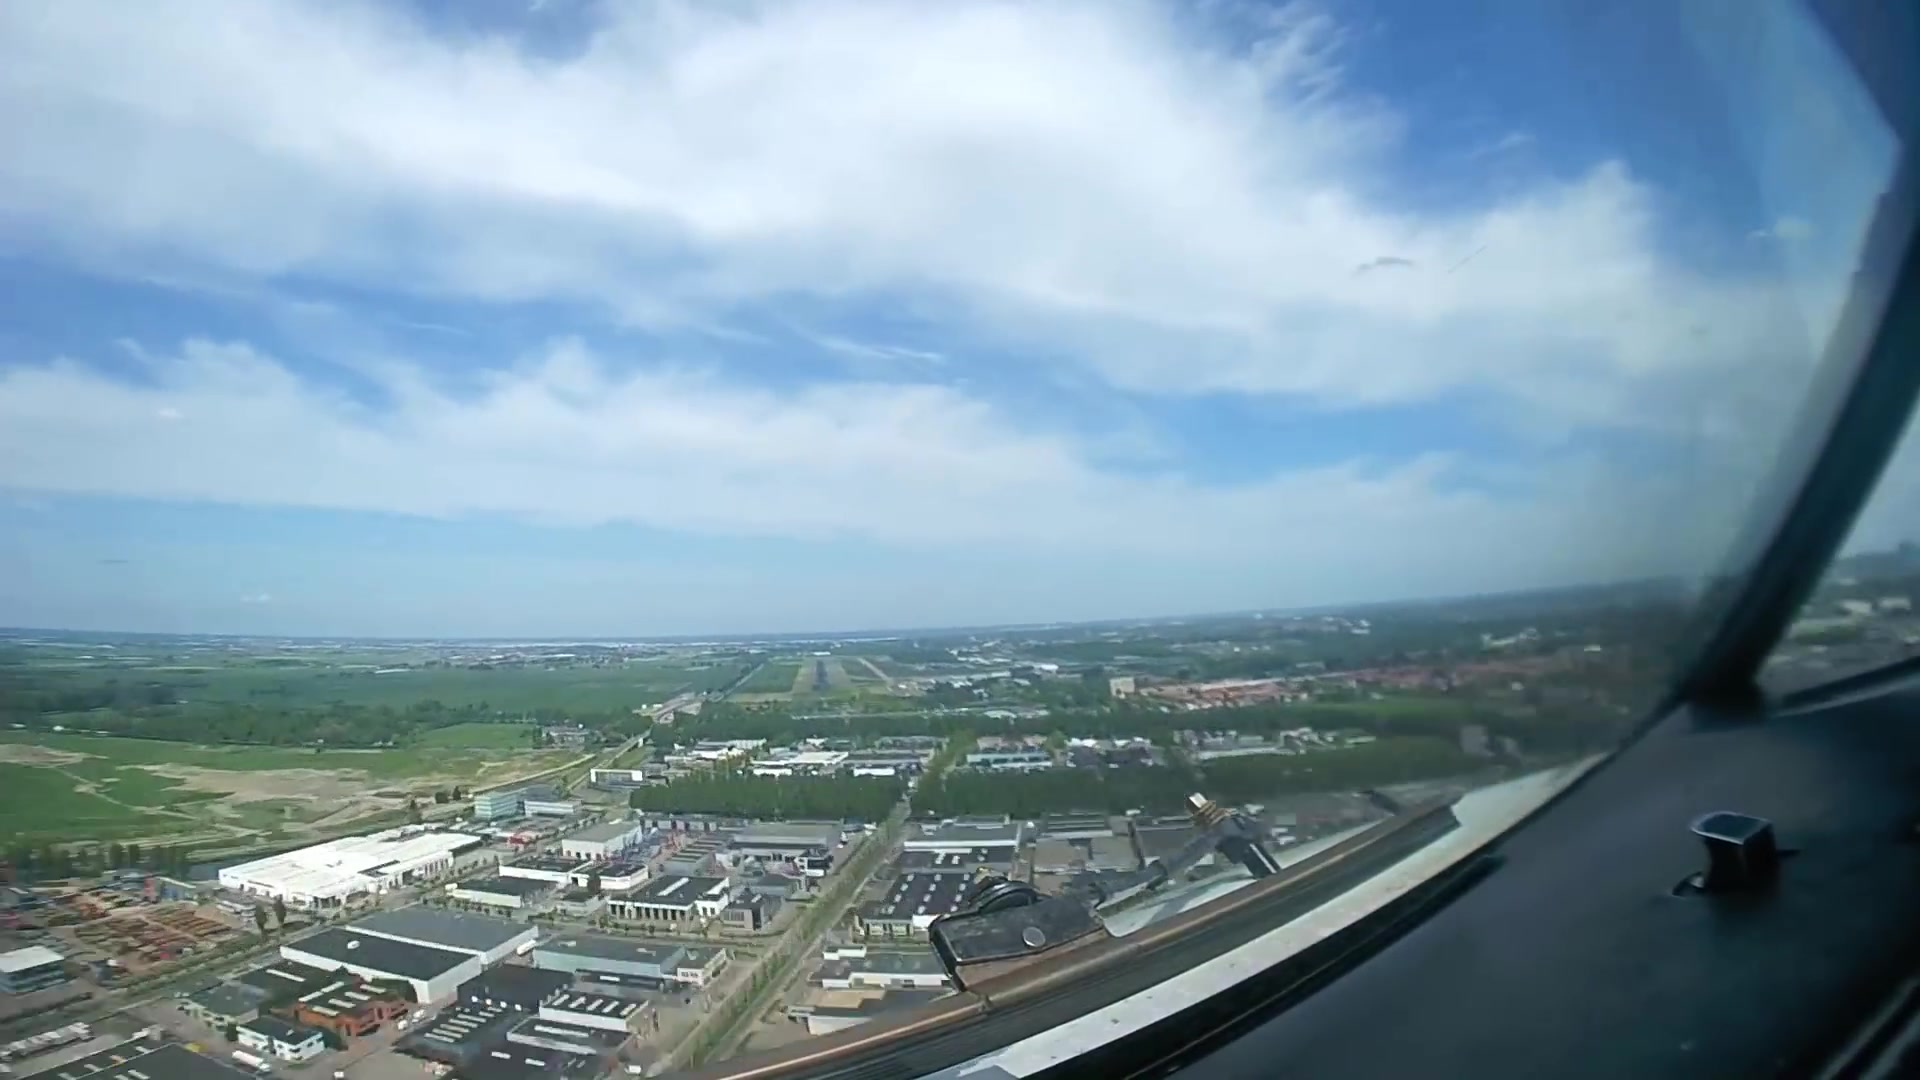runway: (814, 654, 831, 692)
